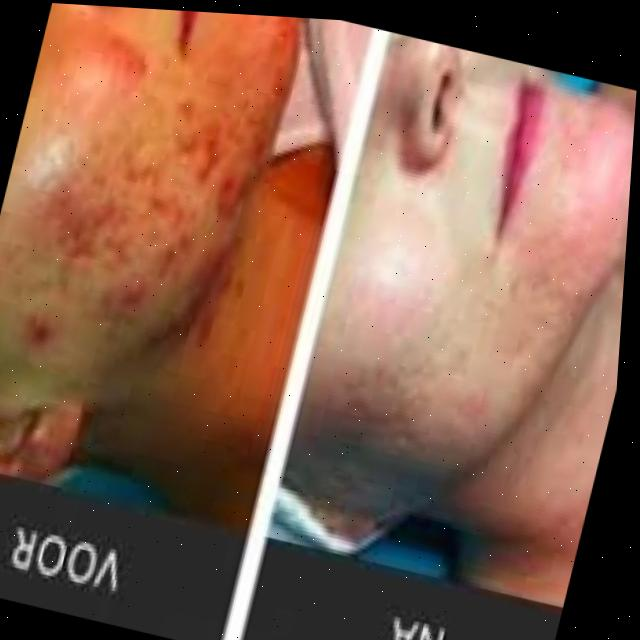Rosacea: (7, 27, 279, 403)
